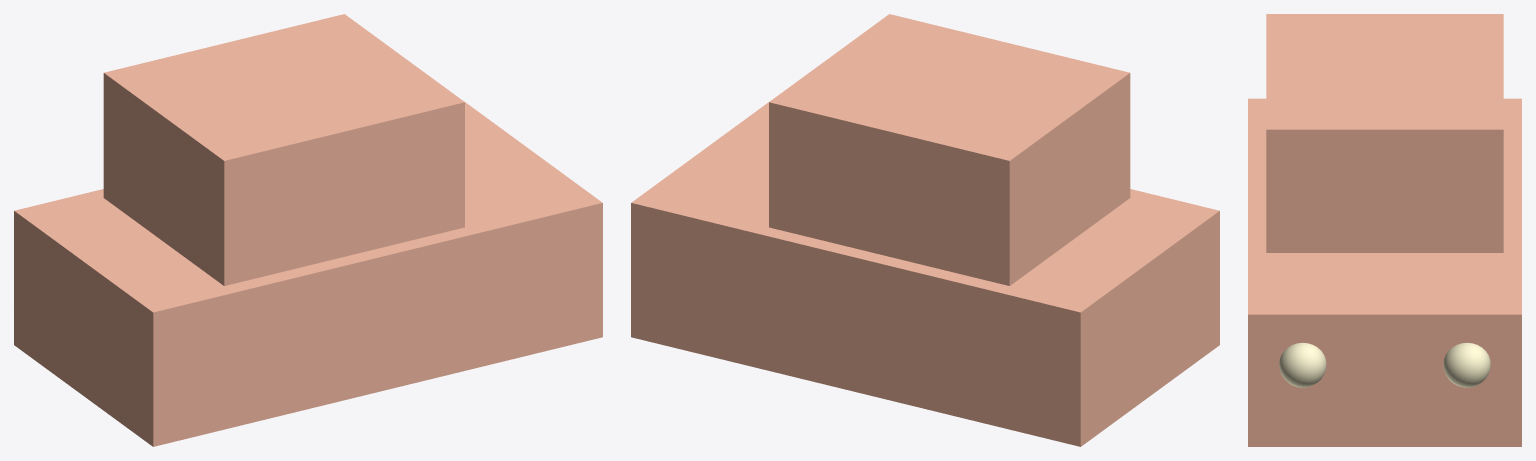
The model's file is car.glb.
The picture shows the model from 3 angles, left to right: view 1: azimuth 30°, elevation 25°; view 2: azimuth 150°, elevation 25°; view 3: azimuth 270°, elevation 25°; orthographic projection.
Visible parts, largest first — view 1: car; view 2: car; view 3: car.
Boxes of the visible parts, x1,y1,x2,y2 form: car: [14, 14, 602, 446]; car: [631, 14, 1219, 446]; car: [1248, 14, 1521, 446].
Size of the model in its own units: 2.93 by 1.55 by 1.5.
